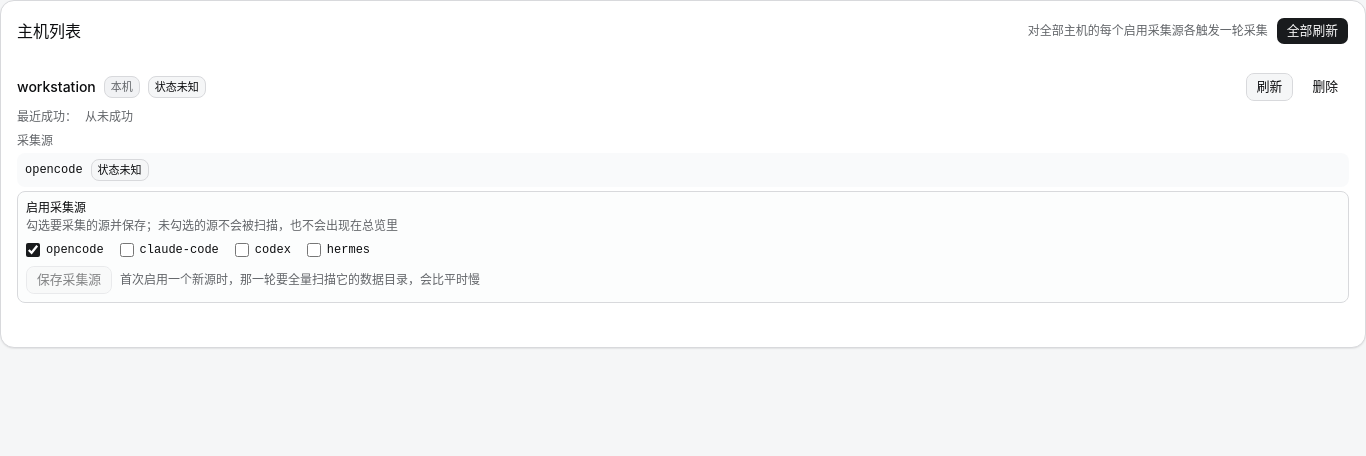
Scenario: HostList 采集源勾选 › 渲染后端对非法采集源集合的拒绝文案
This screenshot has width=1366, height=456.
Step 1. Click the checkbox labelled "codex" → click(242, 250), box [235,243,249,257]
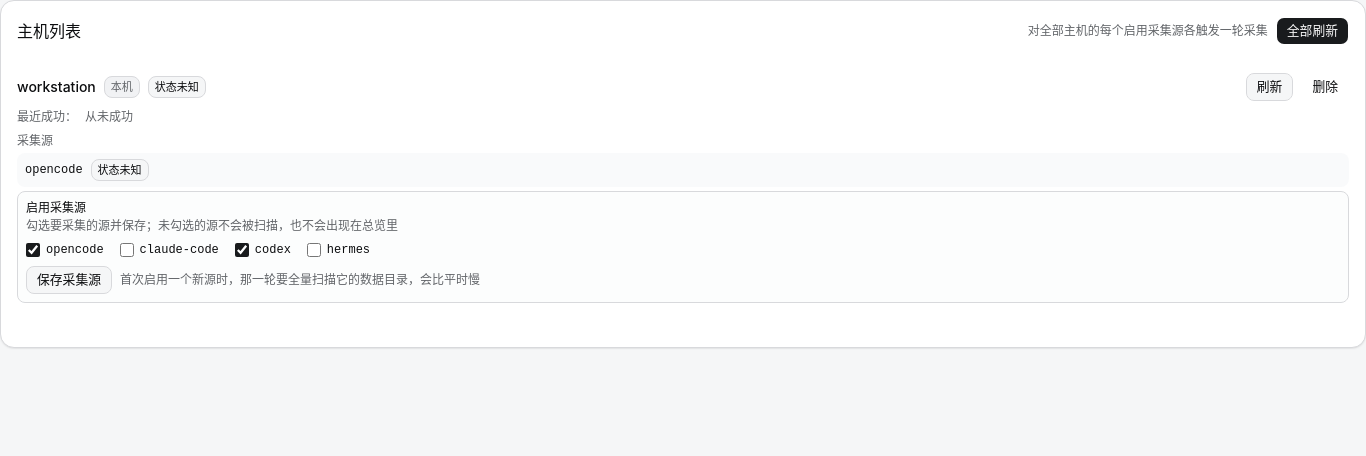
Step 2. Click the button with test id "host-sources-save-local-host-000001" → click(69, 280), box [26,266,112,294]
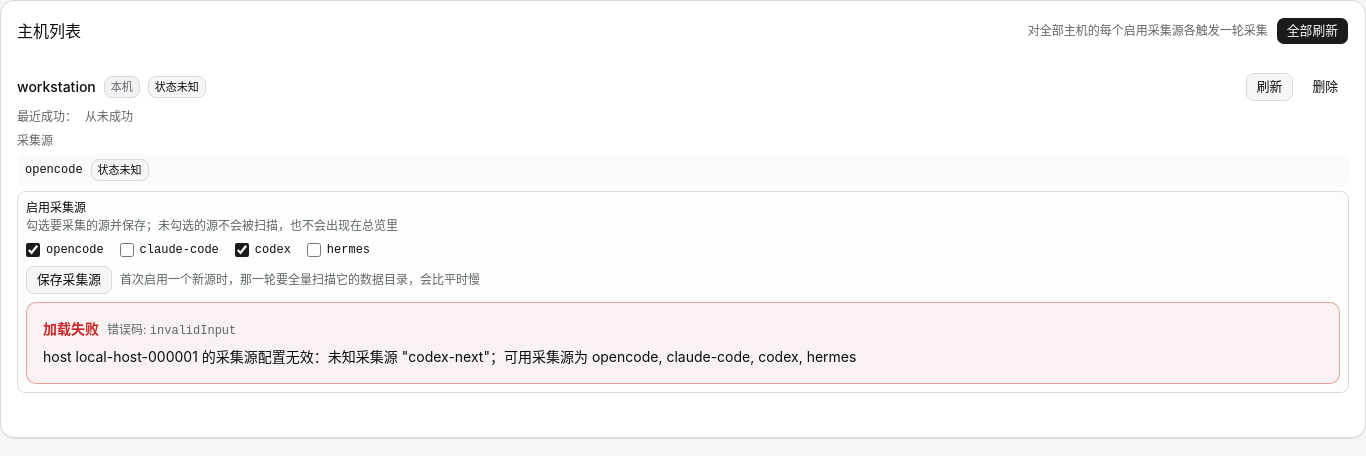
expect the text with test id "host-sources-error-local-host-000001-message" shows "采集源配置无效": met, box [43,348,856,365]
expect the text with test id "host-sources-error-local-host-000001-code" reads "invalidInput": met, box [150,324,236,338]
